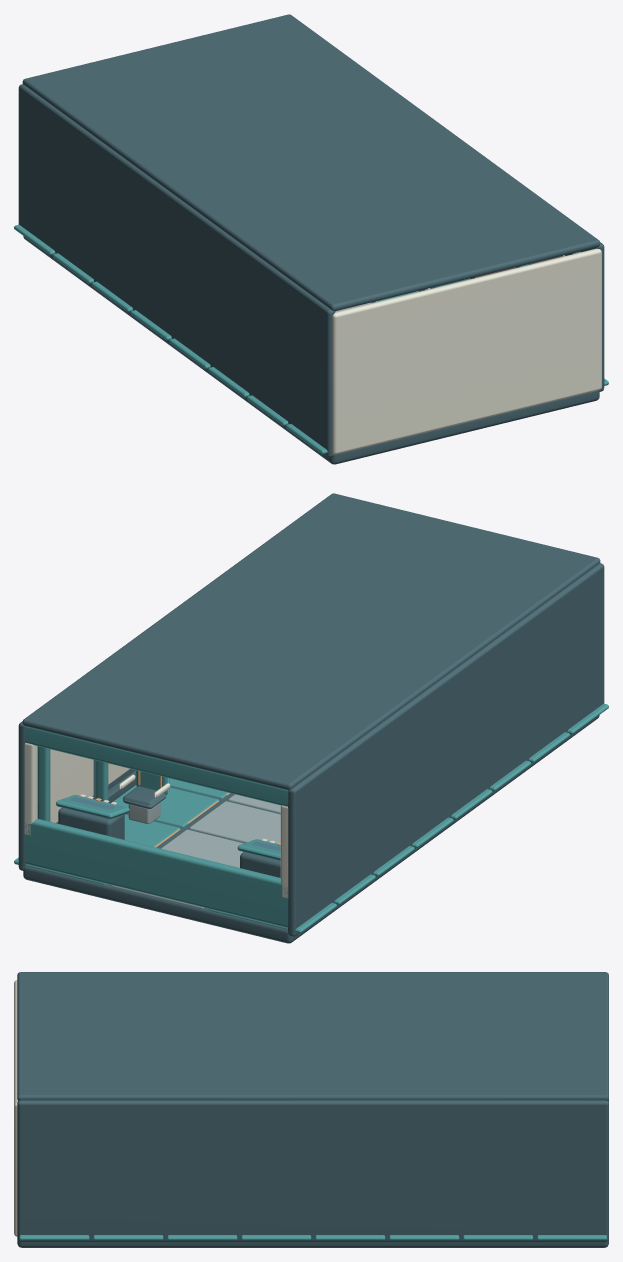
The model's file is kestrel_cabin.glb.
3 renders of one model, top to bottom at view 1: azimuth 30°, elevation 25°; view 2: azimuth 150°, elevation 25°; view 3: azimuth 270°, elevation 25°, orthographic. The views are drawn at different scales.
Parts seen in each view (by area): view 1: Pressure deck, Ceramic wall liner, Removable deck plate; view 2: Pressure deck, Removable deck plate, Removable deck plate.001, Ceramic wall liner; view 3: Pressure deck, Removable deck plate, Ceramic wall liner.
Boxes of the visible parts, <box> form: Pressure deck: <box>18,14,604,464</box>; Ceramic wall liner: <box>332,248,601,454</box>; Removable deck plate: <box>14,224,608,454</box>; Pressure deck: <box>18,493,604,943</box>; Removable deck plate: <box>14,703,608,933</box>; Removable deck plate.001: <box>111,794,280,908</box>; Ceramic wall liner: <box>24,743,288,898</box>; Pressure deck: <box>17,972,608,1247</box>; Removable deck plate: <box>19,1235,606,1240</box>; Ceramic wall liner: <box>14,980,17,1236</box>.
Size of the model in its own units: 8.55 by 4.57 by 16.09.
